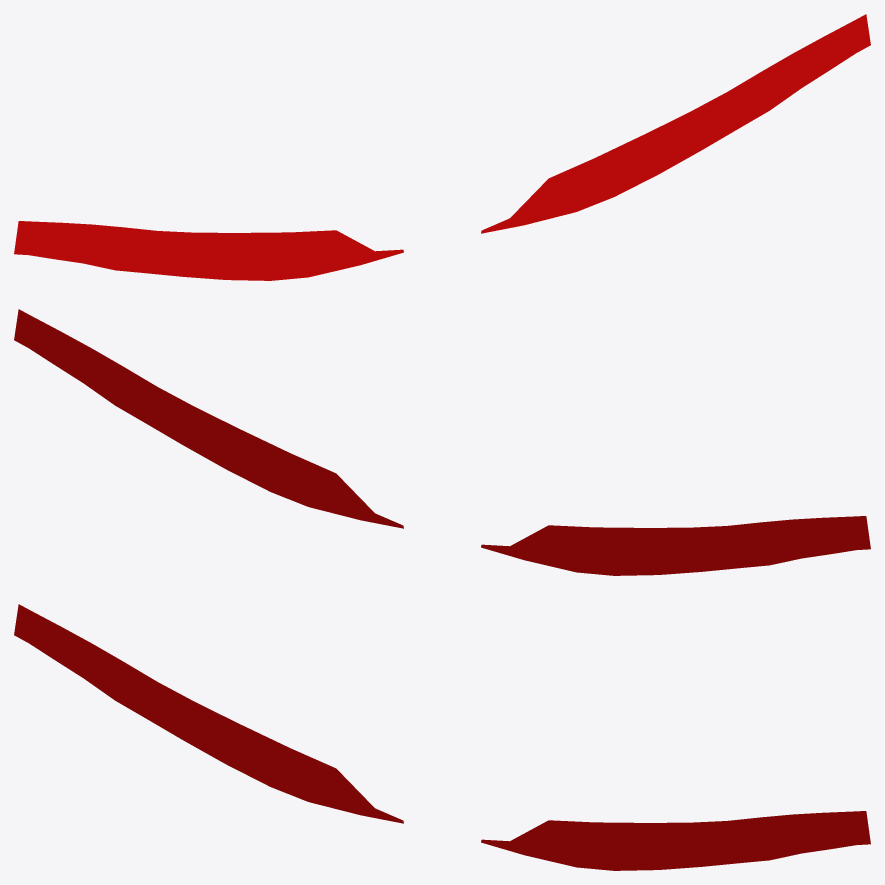
File: frame74.fbx
3 renders of one model, top to bottom at view 1: azimuth 30°, elevation 25°; view 2: azimuth 150°, elevation 25°; view 3: azimuth 330°, elevation 25°, orthographic.
Visible parts, largest first — view 1: MaterialLayer; view 2: MaterialLayer; view 3: MaterialLayer.
Part boxes in pixels (x1=…): MaterialLayer: x1=14, y1=14, x2=870, y2=280; MaterialLayer: x1=14, y1=309, x2=870, y2=575; MaterialLayer: x1=14, y1=604, x2=870, y2=870.
Bounding box in the file's own units: 1290 × 184 × 9.55e-05.
